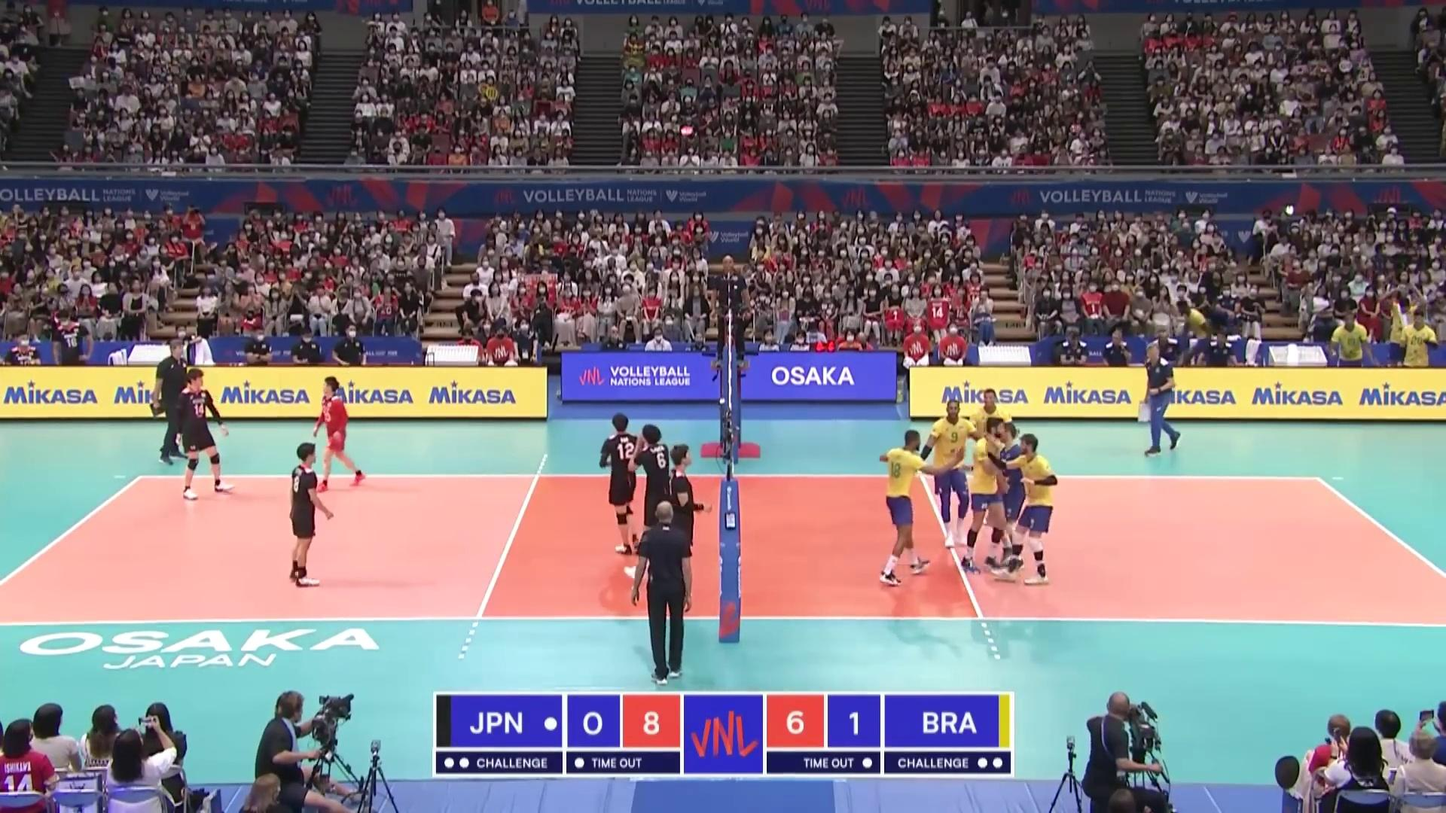player: (877, 431, 948, 585), (169, 368, 234, 501), (1005, 434, 1058, 588), (666, 444, 712, 614), (629, 425, 677, 579), (969, 389, 1017, 539), (930, 398, 976, 549), (963, 419, 1008, 573), (310, 375, 367, 487), (600, 412, 645, 553), (287, 444, 331, 586), (996, 422, 1029, 569)
refree: (630, 502, 693, 682), (709, 252, 758, 380)
